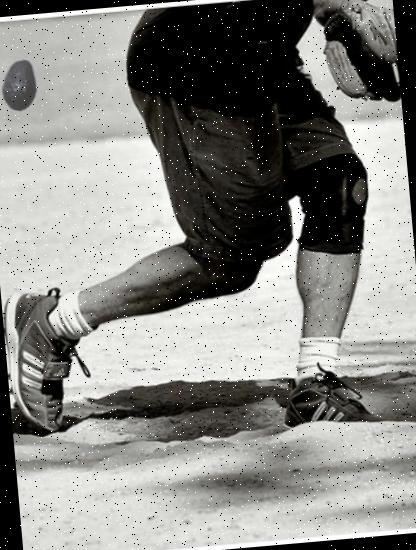Avocado: (0, 57, 49, 113)
